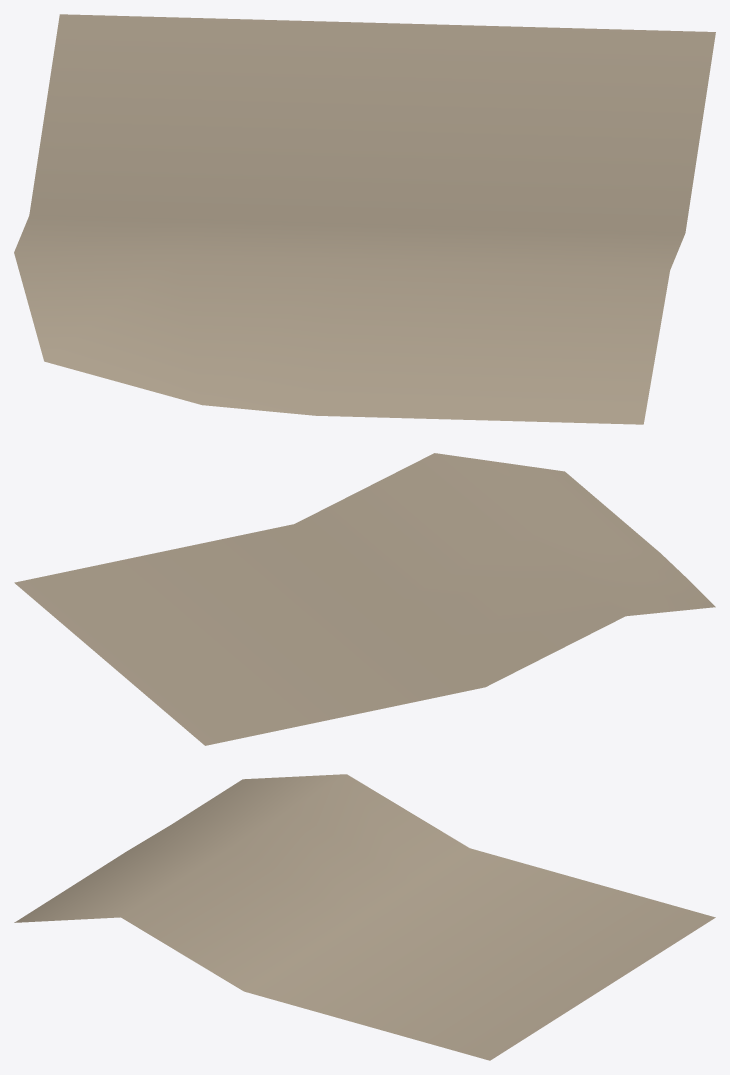
Rendered from S_Paper1.fbx.
3 renders of one model, top to bottom at view 1: azimuth 30°, elevation 25°; view 2: azimuth 150°, elevation 25°; view 3: azimuth 270°, elevation 25°, orthographic. The views are drawn at different scales.
Parts seen in each view (by area): view 1: S_Paper1; view 2: S_Paper1; view 3: S_Paper1.
Boxes of the visible parts, x1,y1,x2,y2 form: S_Paper1: [14, 14, 715, 424]; S_Paper1: [14, 453, 715, 745]; S_Paper1: [14, 774, 715, 1060].
Bounding box in the file's own units: 67.94 × 4.75 × 76.49.
